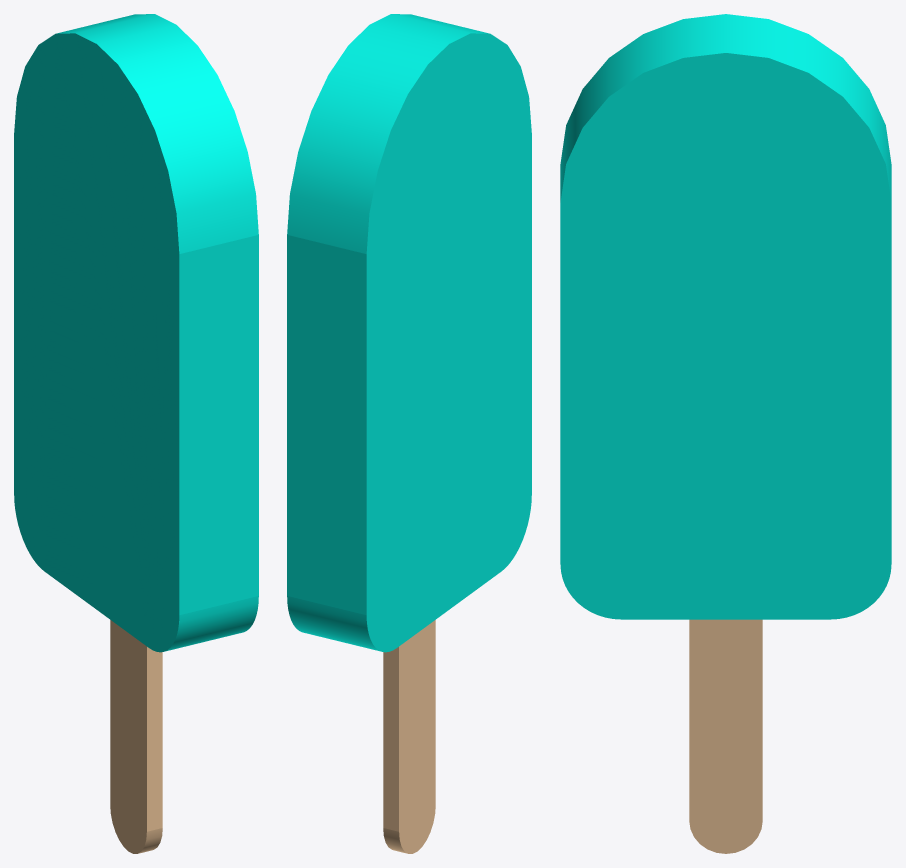
Rendered from popsicle_lightblue.fbx.
The picture shows the model from 3 angles, left to right: view 1: azimuth 30°, elevation 25°; view 2: azimuth 150°, elevation 25°; view 3: azimuth 270°, elevation 25°; orthographic projection.
Visible parts, largest first — view 1: popsicle; view 2: popsicle; view 3: popsicle.
Part boxes in pixels (<box>): popsicle: <box>14,14,258,853</box>; popsicle: <box>287,14,531,853</box>; popsicle: <box>560,14,891,853</box>.
Bounding box in the file's own units: 5 × 49 × 18.
